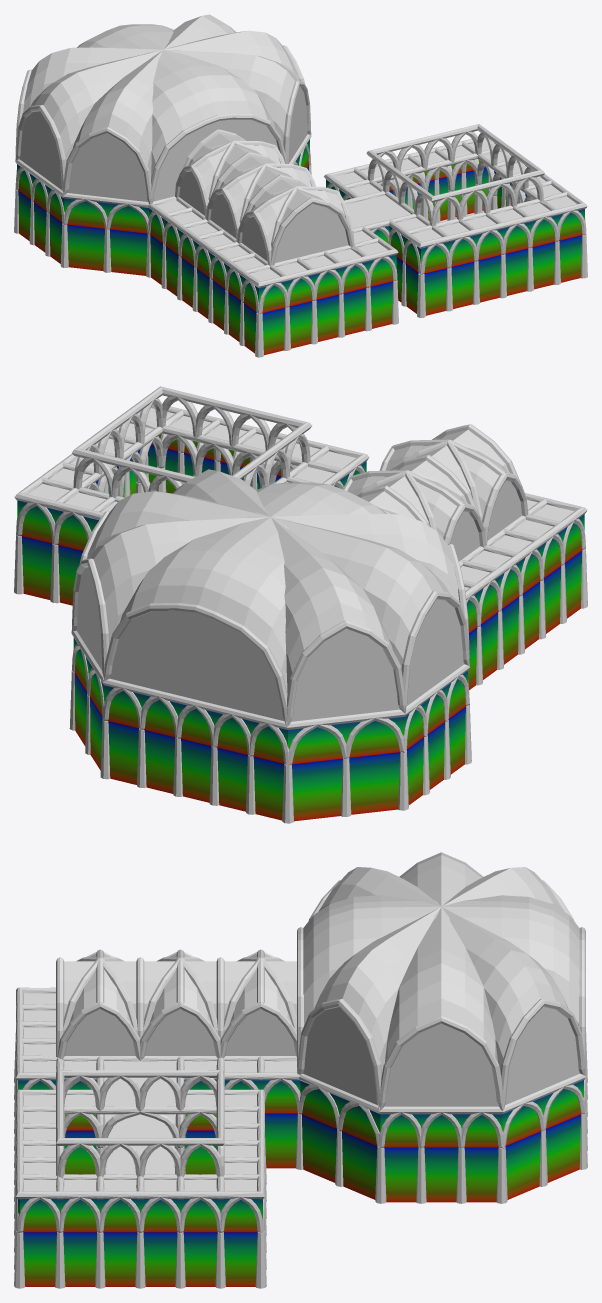
Rendered from CathedralWithCeiling.fbx.
3 renders of one model, top to bottom at view 1: azimuth 30°, elevation 25°; view 2: azimuth 150°, elevation 25°; view 3: azimuth 270°, elevation 25°, orthographic. The views are drawn at different scales.
Parts seen in each view (by area): view 1: dome_ceiling, wall_base, arches, dome_beams, upper_wall, ceiling1_beams, pillar, flat_ceiling, cloister_arches, ceiling1; view 2: dome_ceiling, dome_beams, wall_base, arches, upper_wall, pillar, cloister_arches, ceiling1_beams, flat_ceiling, ceiling1; view 3: dome_ceiling, wall_base, arches, dome_beams, ceiling1_beams, upper_wall, flat_ceiling, pillar, ceiling1, cloister_arches, wall_path, ceiling1_path.
Boxes of the visible parts, bbox=[...] form: dome_ceiling: bbox=[23, 14, 299, 180]; wall_base: bbox=[18, 166, 581, 355]; arches: bbox=[15, 134, 587, 314]; dome_beams: bbox=[15, 45, 311, 203]; upper_wall: bbox=[17, 139, 584, 313]; ceiling1_beams: bbox=[175, 129, 354, 265]; pillar: bbox=[14, 165, 587, 357]; flat_ceiling: bbox=[156, 140, 576, 281]; cloister_arches: bbox=[366, 124, 544, 226]; ceiling1: bbox=[189, 133, 344, 243]; dome_ceiling: bbox=[87, 469, 459, 694]; dome_beams: bbox=[71, 511, 469, 726]; wall_base: bbox=[22, 445, 581, 821]; arches: bbox=[14, 404, 587, 765]; upper_wall: bbox=[17, 434, 584, 764]; pillar: bbox=[14, 452, 587, 823]; cloister_arches: bbox=[72, 386, 312, 498]; ceiling1_beams: bbox=[342, 424, 528, 561]; flat_ceiling: bbox=[28, 408, 573, 590]; ceiling1: bbox=[347, 430, 508, 538]; dome_ceiling: bbox=[303, 852, 579, 1072]; wall_base: bbox=[23, 1113, 580, 1286]; arches: bbox=[16, 987, 585, 1232]; dome_beams: bbox=[297, 880, 585, 1110]; ceiling1_beams: bbox=[56, 949, 296, 1060]; upper_wall: bbox=[18, 1080, 583, 1232]; flat_ceiling: bbox=[23, 993, 296, 1191]; pillar: bbox=[14, 1033, 587, 1288]; ceiling1: bbox=[64, 953, 296, 1023]; cloister_arches: bbox=[56, 1070, 224, 1178]; wall_path: bbox=[105, 1114, 175, 1174]; ceiling1_path: bbox=[105, 1114, 175, 1150].
Bounding box in the file's own units: 14.3 × 6 × 14.3.
